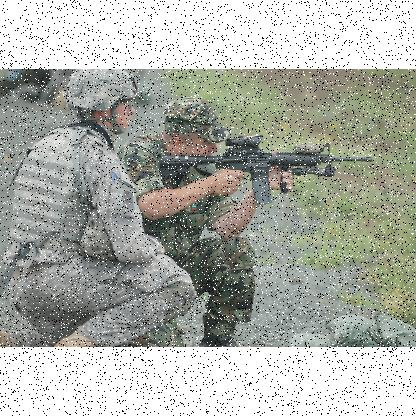gun: (158, 135, 370, 203)
